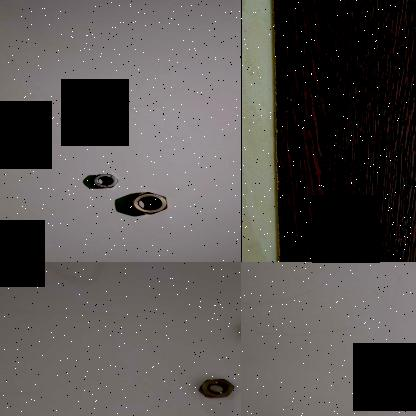NUTS: (186, 369, 241, 402), (124, 190, 172, 218), (67, 106, 109, 130), (87, 169, 120, 195)
